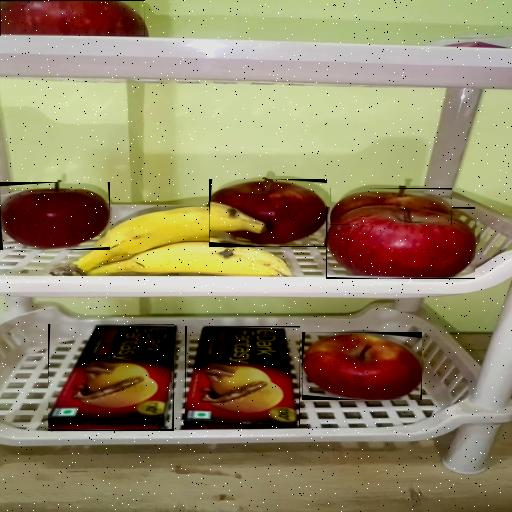Apple: (326, 207, 475, 279), (302, 332, 422, 400), (209, 179, 327, 247), (0, 182, 110, 250), (0, 0, 145, 36), (330, 188, 452, 225)
Choco Fills: (48, 324, 174, 431), (185, 326, 300, 428)
